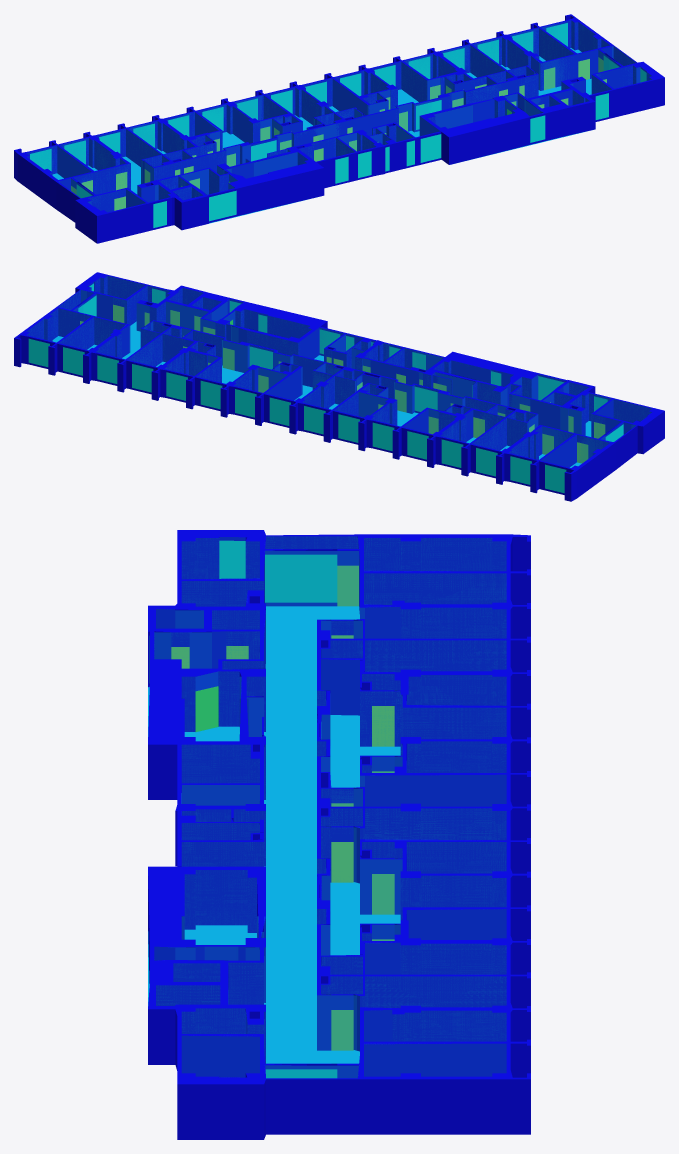
The model's file is floor_7.gltf.
3 views of the same model, one above another, from view 1: azimuth 30°, elevation 25°; view 2: azimuth 150°, elevation 25°; view 3: azimuth 270°, elevation 25° (orthographic). The views are drawn at different scales.
Visible parts, largest first — view 1: group_solid_mesh, Room_7_31663_-6306, group_windows_mesh, Room_7_38644_-10712, Room_7_23712_-10748, group_door_mesh, group_ground_mesh, Room_7_42836_-1852, Room_7_1894_-12383, Room_7_60479_-12383, Room_7_13588_-12397, Room_7_48809_-12397 (+13 smaller); view 2: group_solid_mesh, Room_7_31663_-6306, group_windows_mesh, Room_7_38644_-10712, Room_7_23712_-10748, group_door_mesh, Room_7_42836_-1852, group_ground_mesh, Room_7_1894_-12383, Room_7_60479_-12383, Room_7_5773_-12389, Room_7_56624_-12389 (+12 smaller); view 3: group_solid_mesh, Room_7_31663_-6306, group_ground_mesh, Room_7_38644_-10712, Room_7_23712_-10748, group_door_mesh, group_windows_mesh, Room_7_42836_-1852, Room_7_1894_-12383, Room_7_60479_-12383, Room_7_13588_-12397, Room_7_5773_-12389 (+21 smaller).
Boxes of the visible parts, box(x1,y1,x2,y2) form: group_solid_mesh: box(14, 14, 664, 243); Room_7_31663_-6306: box(74, 37, 620, 201); group_windows_mesh: box(30, 23, 646, 227); Room_7_38644_-10712: box(304, 62, 495, 114); Room_7_23712_-10748: box(185, 88, 332, 156); group_door_mesh: box(71, 57, 606, 210); group_ground_mesh: box(52, 48, 591, 223); Room_7_42836_-1852: box(428, 100, 516, 128); Room_7_1894_-12383: box(27, 146, 90, 179); Room_7_60479_-12383: box(542, 20, 609, 52); Room_7_13588_-12397: box(128, 121, 193, 153); Room_7_48809_-12397: box(441, 45, 504, 77); group_solid_mesh: box(14, 272, 664, 501); Room_7_31663_-6306: box(73, 286, 620, 450); group_windows_mesh: box(28, 283, 623, 493); Room_7_38644_-10712: box(185, 331, 331, 399); Room_7_23712_-10748: box(303, 375, 495, 425); group_door_mesh: box(80, 304, 605, 463); Room_7_42836_-1852: box(223, 309, 311, 337); group_ground_mesh: box(52, 321, 591, 467); Room_7_1894_-12383: box(541, 435, 609, 467); Room_7_60479_-12383: box(27, 309, 90, 341); Room_7_5773_-12389: box(509, 426, 573, 459); Room_7_56624_-12389: box(59, 317, 125, 349); group_solid_mesh: box(148, 530, 530, 1139); Room_7_31663_-6306: box(182, 551, 506, 1063); group_ground_mesh: box(148, 606, 400, 1063); Room_7_38644_-10712: box(321, 808, 506, 955); Room_7_23712_-10748: box(321, 660, 506, 805); group_door_mesh: box(171, 565, 394, 1050); group_windows_mesh: box(149, 540, 337, 1078); Room_7_42836_-1852: box(182, 870, 258, 944); Room_7_1894_-12383: box(364, 538, 506, 570); Room_7_60479_-12383: box(364, 1044, 505, 1075); Room_7_13588_-12397: box(365, 640, 506, 671); Room_7_5773_-12389: box(364, 573, 506, 604).
Size of the model in its own units: 64349 by 3000 by 18799.
